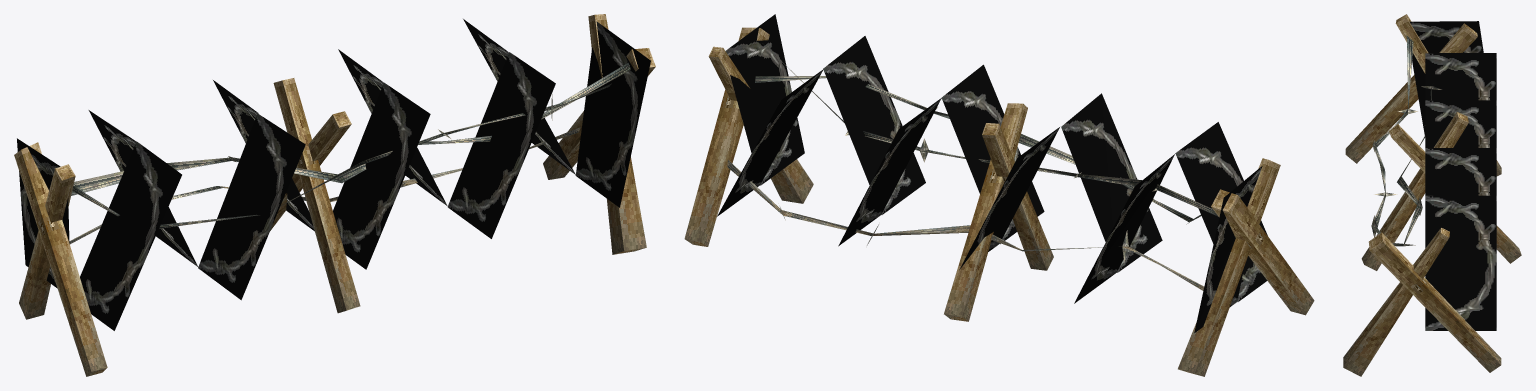
Rendered from C1SMBWIRE1_H.bgf.obj.
The picture shows the model from 3 angles, left to right: view 1: azimuth 30°, elevation 25°; view 2: azimuth 150°, elevation 25°; view 3: azimuth 270°, elevation 25°; orthographic projection. The views are drawn at different scales.
Parts seen in each view (by area): view 1: FRAG04, BARBEDWIRE, FRAG06, FRAG09, FRAG07, FRAG02, FRAG05, FRAG10, FRAG03, FRAG01, FRAG08; view 2: BARBEDWIRE, FRAG04, FRAG09, FRAG06, FRAG02, FRAG07, FRAG10, FRAG08, FRAG03, FRAG05; view 3: BARBEDWIRE, FRAG02, FRAG04, FRAG09, FRAG06, FRAG07, FRAG10, FRAG03, FRAG05, FRAG01.
Part boxes in pixels (left/top/right/bottom): FRAG04: left=213, top=78, right=430, bottom=313; BARBEDWIRE: left=14, top=14, right=655, bottom=376; FRAG06: left=88, top=110, right=305, bottom=300; FRAG09: left=338, top=49, right=555, bottom=238; FRAG07: left=17, top=138, right=181, bottom=330; FRAG02: left=463, top=19, right=650, bottom=207; FRAG05: left=71, top=156, right=366, bottom=195; FRAG10: left=270, top=111, right=351, bottom=230; FRAG03: left=72, top=83, right=611, bottom=228; FRAG01: left=419, top=62, right=630, bottom=144; FRAG08: left=69, top=127, right=580, bottom=244; BARBEDWIRE: left=684, top=27, right=1314, bottom=376; FRAG04: left=941, top=64, right=1059, bottom=270; FRAG09: left=823, top=36, right=941, bottom=246; FRAG06: left=1061, top=93, right=1174, bottom=303; FRAG02: left=717, top=14, right=823, bottom=216; FRAG07: left=1175, top=122, right=1267, bottom=332; FRAG10: left=944, top=103, right=1027, bottom=321; FRAG08: left=727, top=160, right=1204, bottom=290; FRAG03: left=755, top=76, right=1212, bottom=224; FRAG05: left=920, top=150, right=1218, bottom=216; BARBEDWIRE: left=1343, top=14, right=1501, bottom=376; FRAG02: left=1425, top=195, right=1496, bottom=330; FRAG04: left=1361, top=100, right=1496, bottom=270; FRAG09: left=1425, top=148, right=1496, bottom=195; FRAG06: left=1425, top=53, right=1496, bottom=100; FRAG07: left=1409, top=21, right=1483, bottom=135; FRAG10: left=1389, top=124, right=1521, bottom=263; FRAG03: left=1371, top=35, right=1418, bottom=237; FRAG05: left=1397, top=86, right=1441, bottom=204; FRAG01: left=1392, top=197, right=1422, bottom=246.
Bounding box in the file's own units: 7.25 × 2.35 × 2.47.
12 materials, 12 textured.
